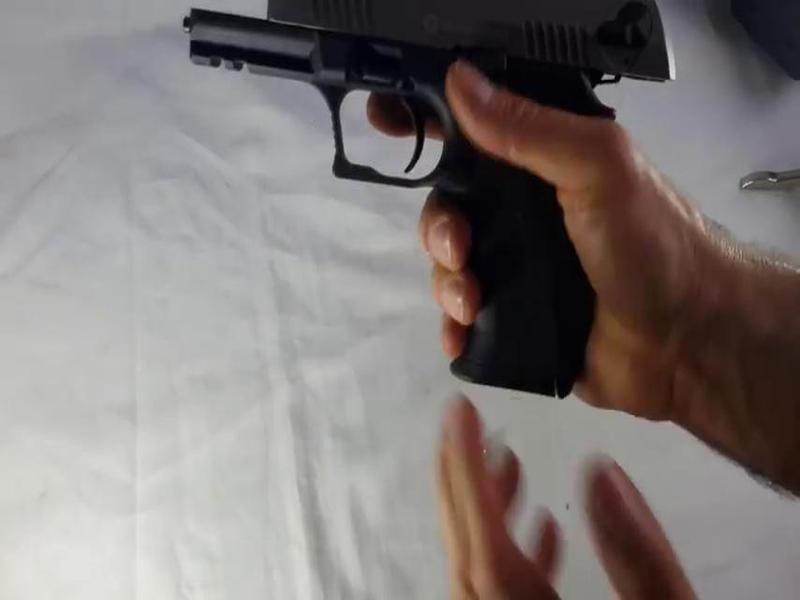Pistola: (108, 1, 667, 379)
